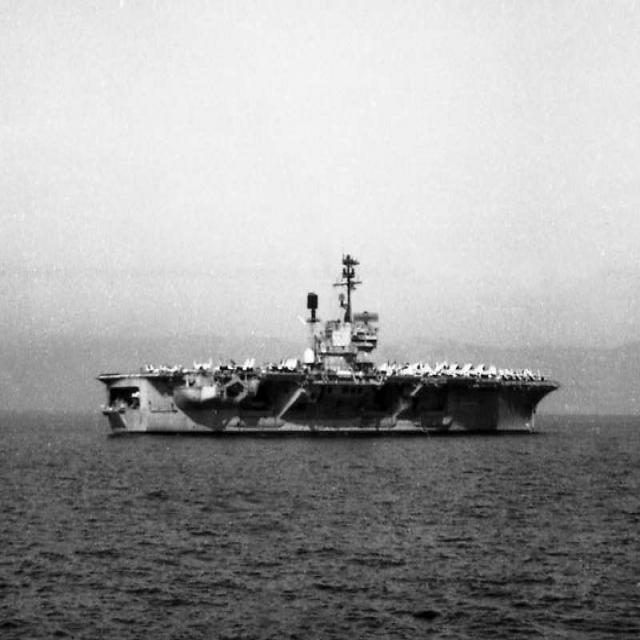Portanaves: (97, 247, 574, 445)
